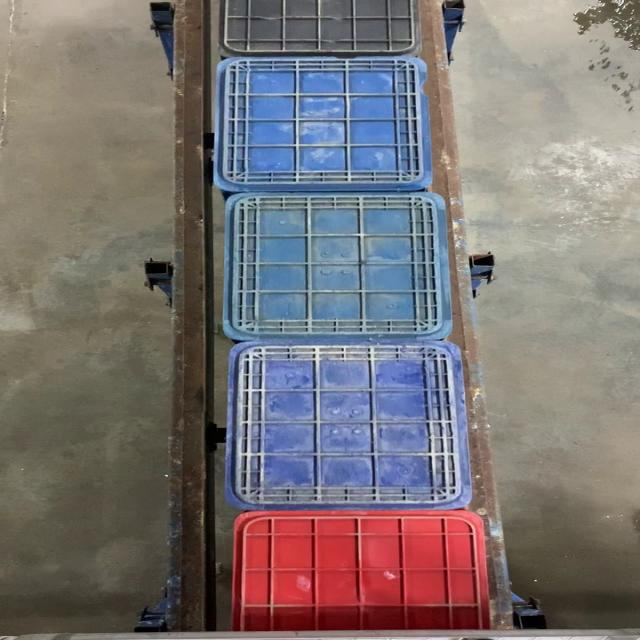Box: (224, 340, 478, 508), (221, 192, 459, 340), (210, 55, 437, 192)
